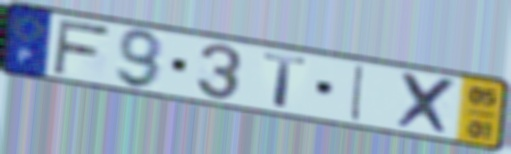3: (192, 42, 243, 103)
9: (115, 27, 168, 92)
F: (50, 17, 113, 76)
I: (348, 62, 368, 124)
T: (261, 51, 311, 111)
X: (394, 69, 460, 138)
